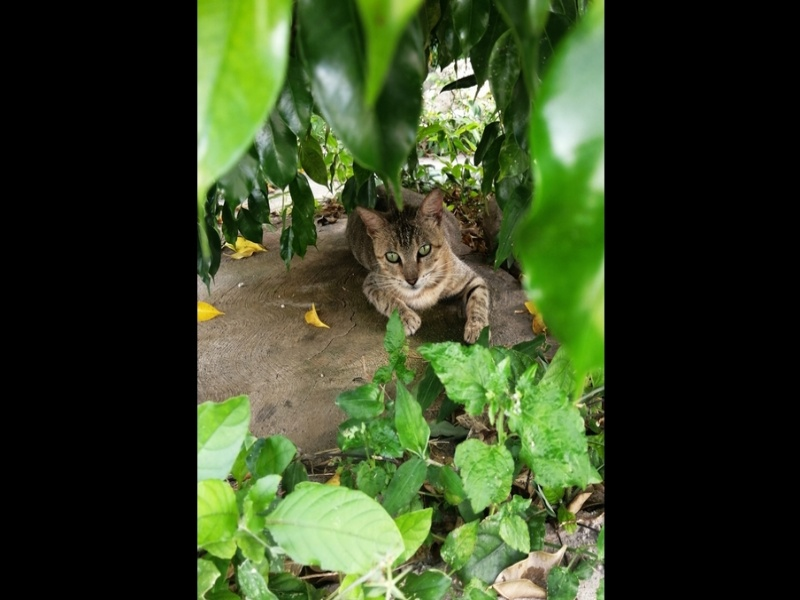cat: (341, 185, 495, 351)
